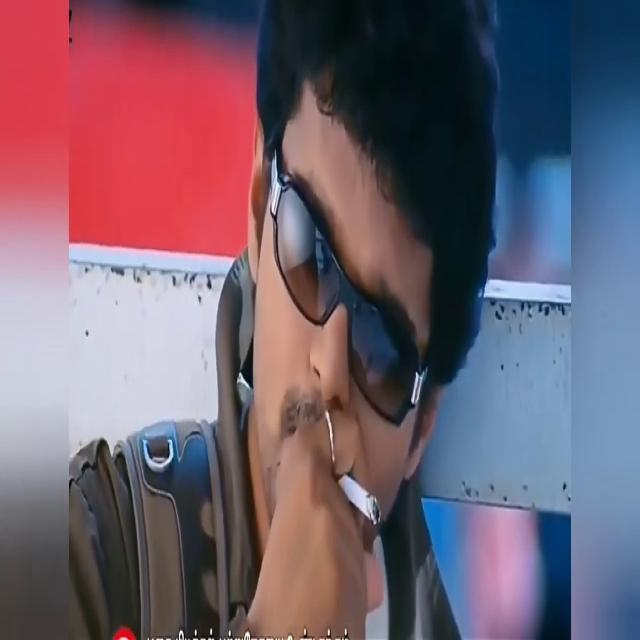smoking: (319, 360, 363, 573)
